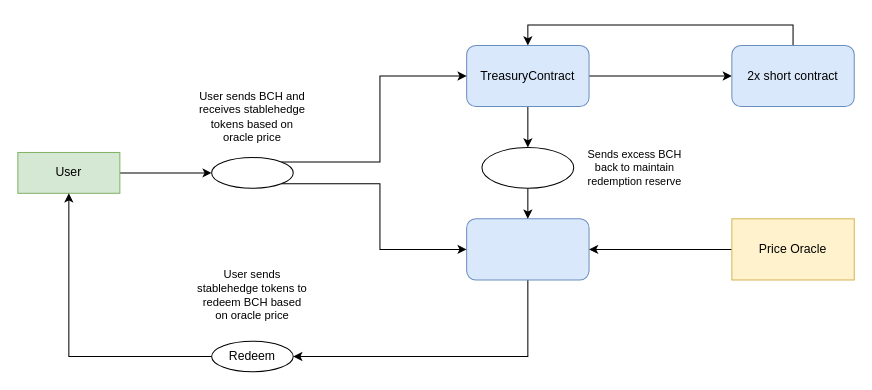
This 872x390 diagram has some shape labels left out. Here are the shapes that lost their labels. From the top down, the box of each, then its label:
(211, 157, 293, 188): Deposit
(481, 146, 574, 188): Balance Liquidity
(466, 218, 589, 280): RedemptionContract
